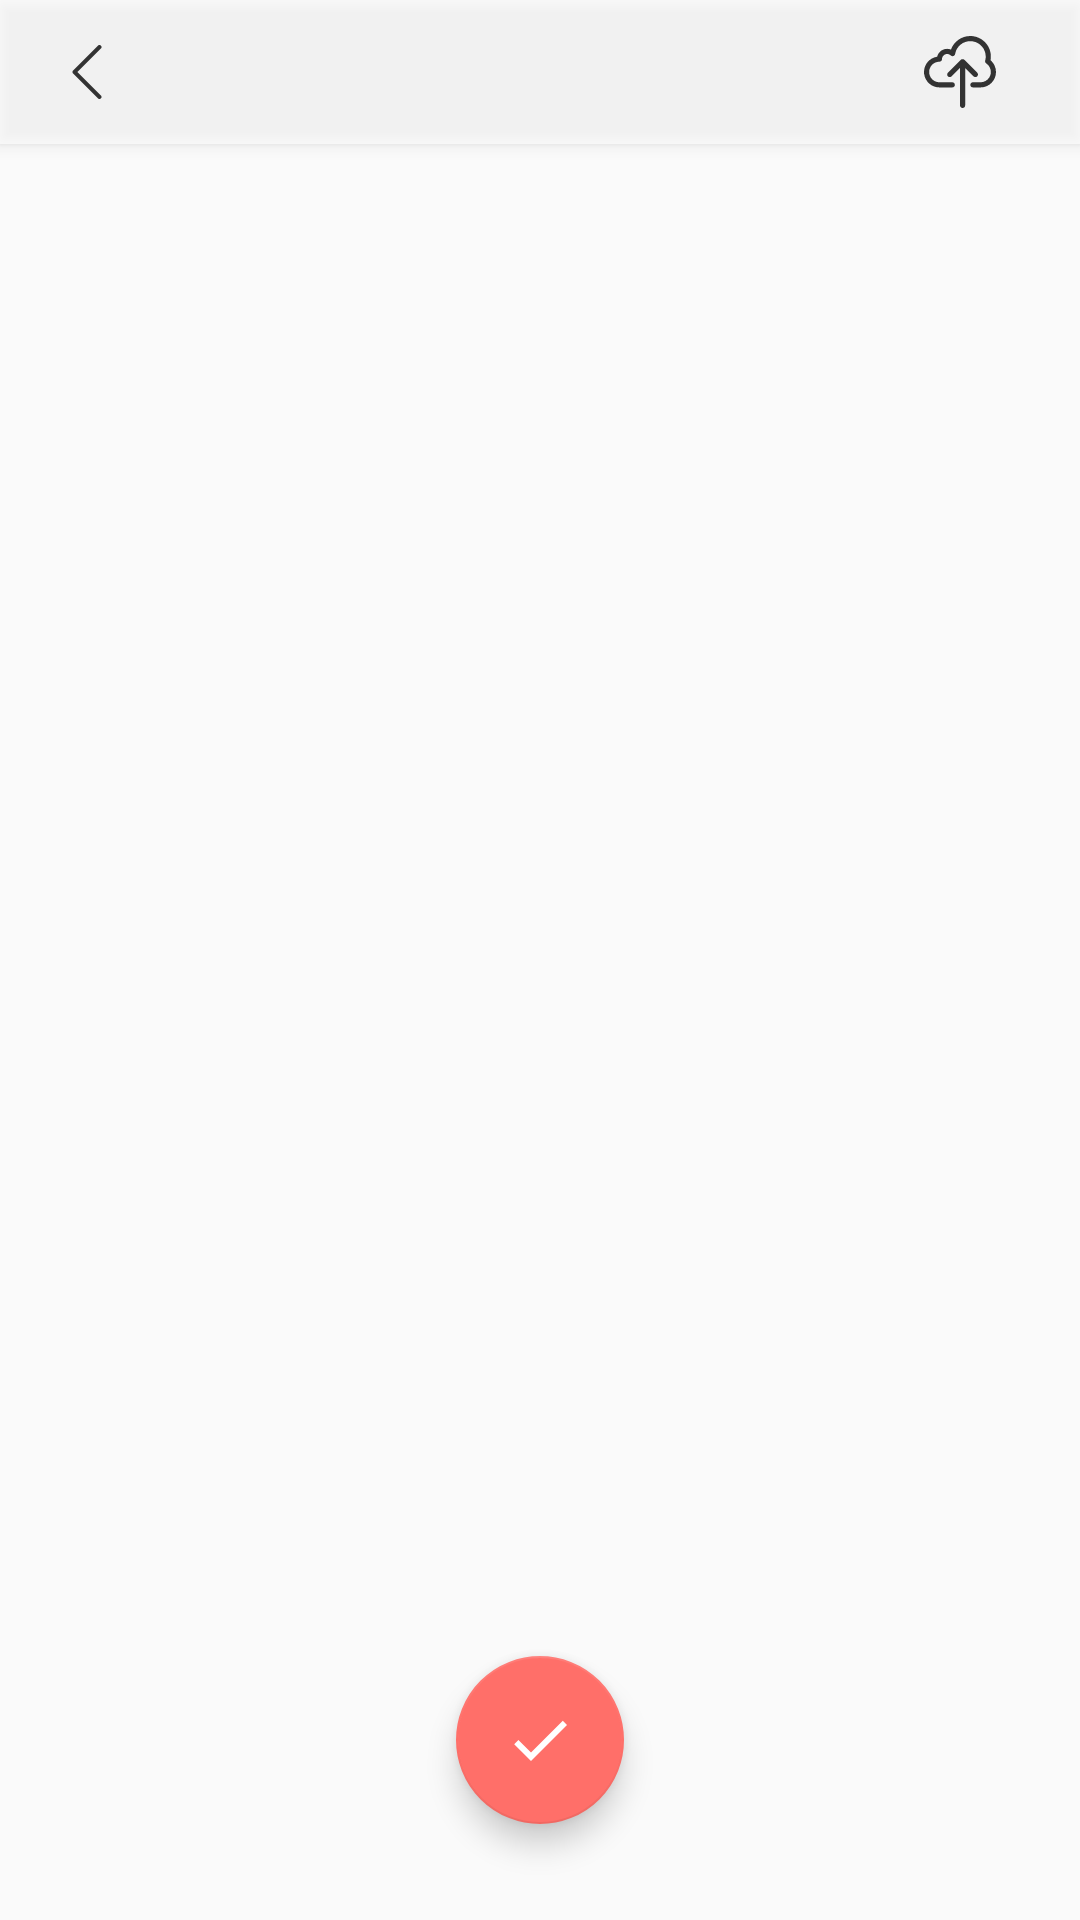

Named icons in this screenshot (1080px×1920px) and their bounding boxes, bbox=(x1, y1, x2, y2):
back: bbox=(72, 45, 102, 99)
done: bbox=(456, 1656, 624, 1824)
upload: bbox=(924, 36, 996, 108)
